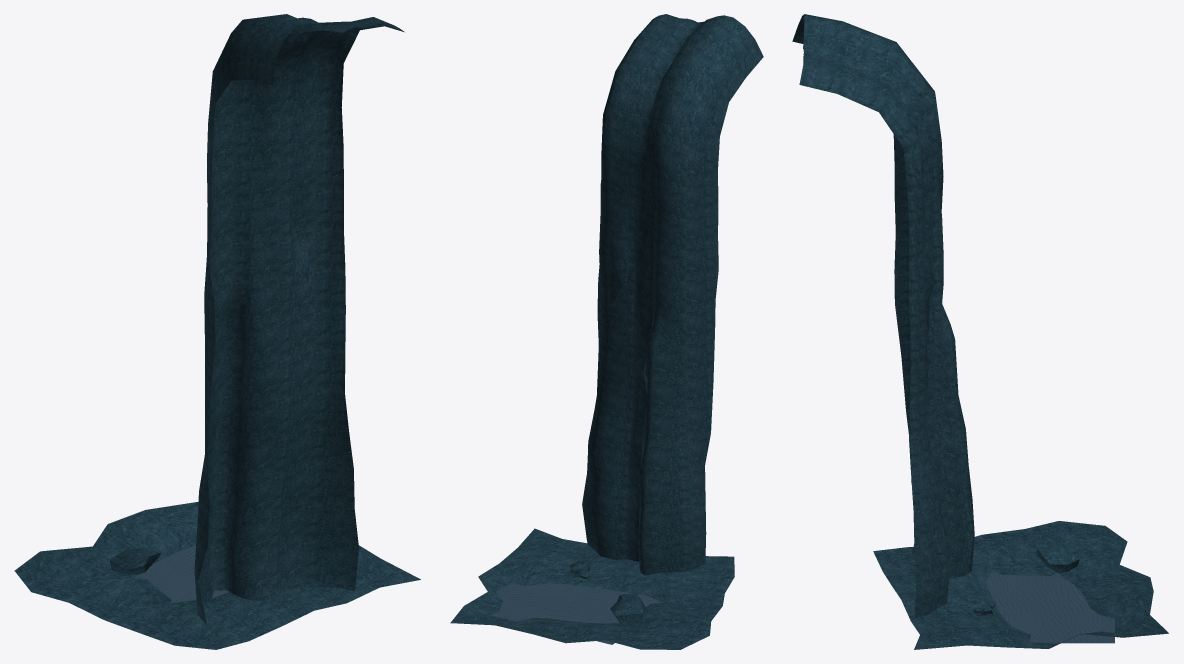
The model's file is environment.fbx.
3 renders of one model, left to right at view 1: azimuth 30°, elevation 25°; view 2: azimuth 150°, elevation 25°; view 3: azimuth 270°, elevation 25°, orthographic. The views are drawn at different scales.
Visible parts, largest first — view 1: Cylinder_1, Plane_1, Plane_2, Cube_2; view 2: Cylinder_1, Plane_1, Plane_2, Cube_2; view 3: Cylinder_1, Plane_1, Plane_2, Cube_2.
Part boxes in pixels (left/top/right/bottom): Cylinder_1: left=194, top=14, right=404, bottom=624; Plane_1: left=14, top=501, right=420, bottom=649; Plane_2: left=134, top=545, right=229, bottom=603; Cube_2: left=110, top=548, right=161, bottom=575; Cylinder_1: left=582, top=14, right=763, bottom=575; Plane_1: left=450, top=528, right=734, bottom=649; Plane_2: left=490, top=582, right=662, bottom=644; Cube_2: left=610, top=593, right=646, bottom=626; Cylinder_1: left=792, top=14, right=974, bottom=618; Plane_1: left=873, top=521, right=1168, bottom=649; Plane_2: left=985, top=571, right=1114, bottom=643; Cube_2: left=1036, top=543, right=1079, bottom=572.
Bounding box in the file's own units: 2595 × 5415 × 3216.
6 materials, 6 textured.
